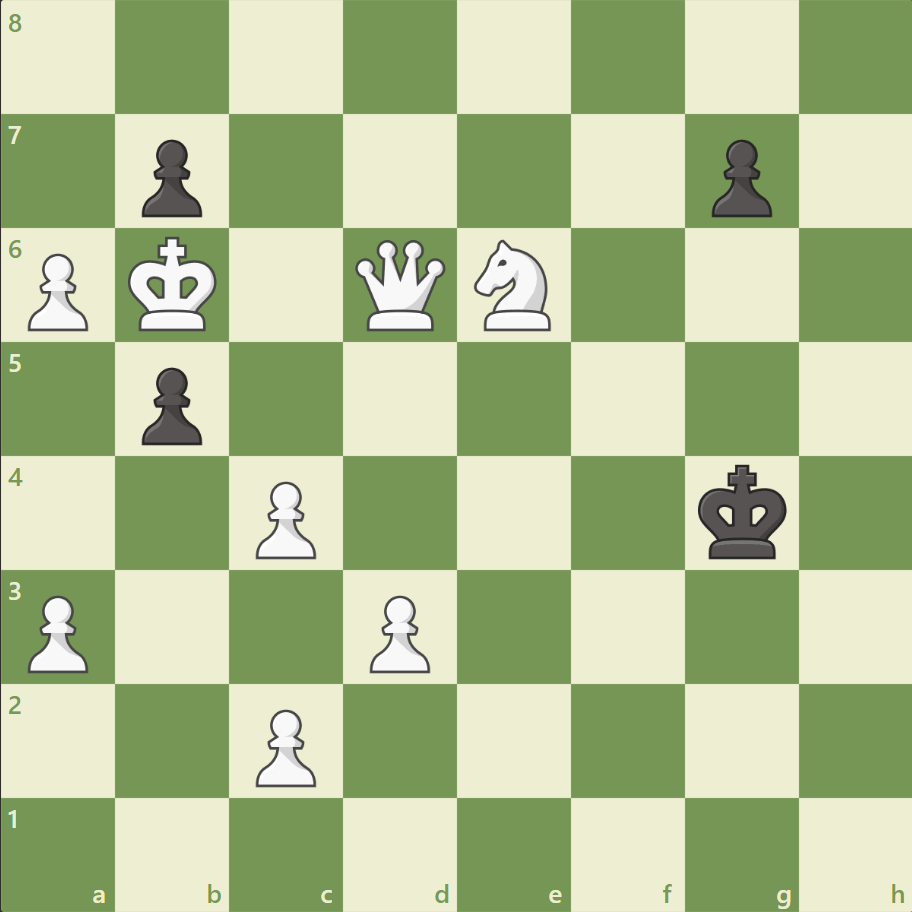K: (124, 231, 224, 339)
N: (465, 234, 562, 337)
P: (20, 246, 95, 337), (247, 473, 322, 564), (20, 586, 95, 677), (247, 700, 322, 791), (361, 586, 435, 677)
Q: (351, 236, 450, 335)
k: (692, 458, 792, 566)
p: (133, 132, 208, 223), (701, 132, 776, 223), (133, 359, 208, 450)
